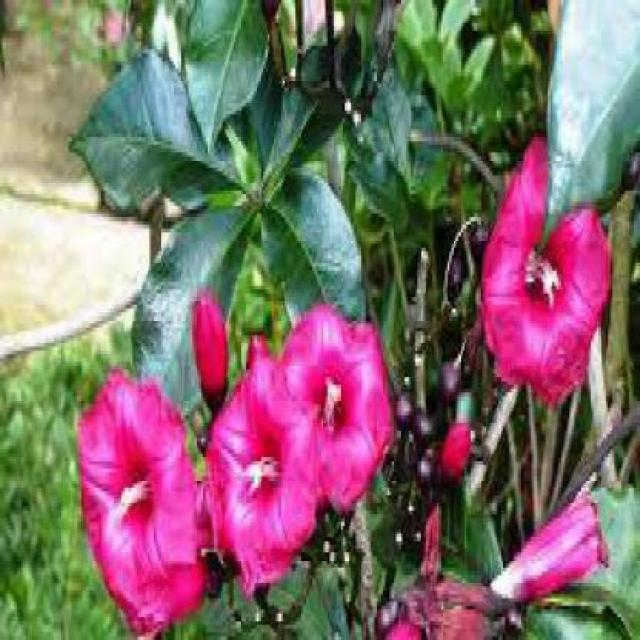flower: (475, 129, 610, 405), (74, 372, 221, 619), (203, 354, 329, 594), (268, 305, 392, 506)
